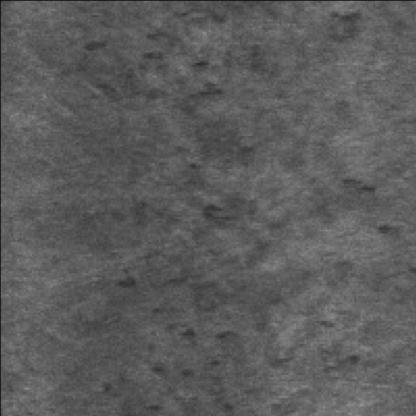rolled-in_scale: (108, 260, 258, 414), (129, 21, 223, 158)
